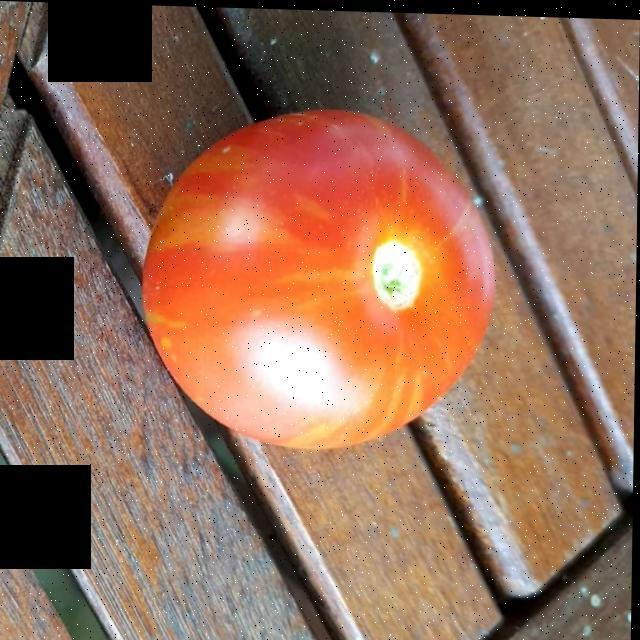tomato: (146, 111, 492, 444)
